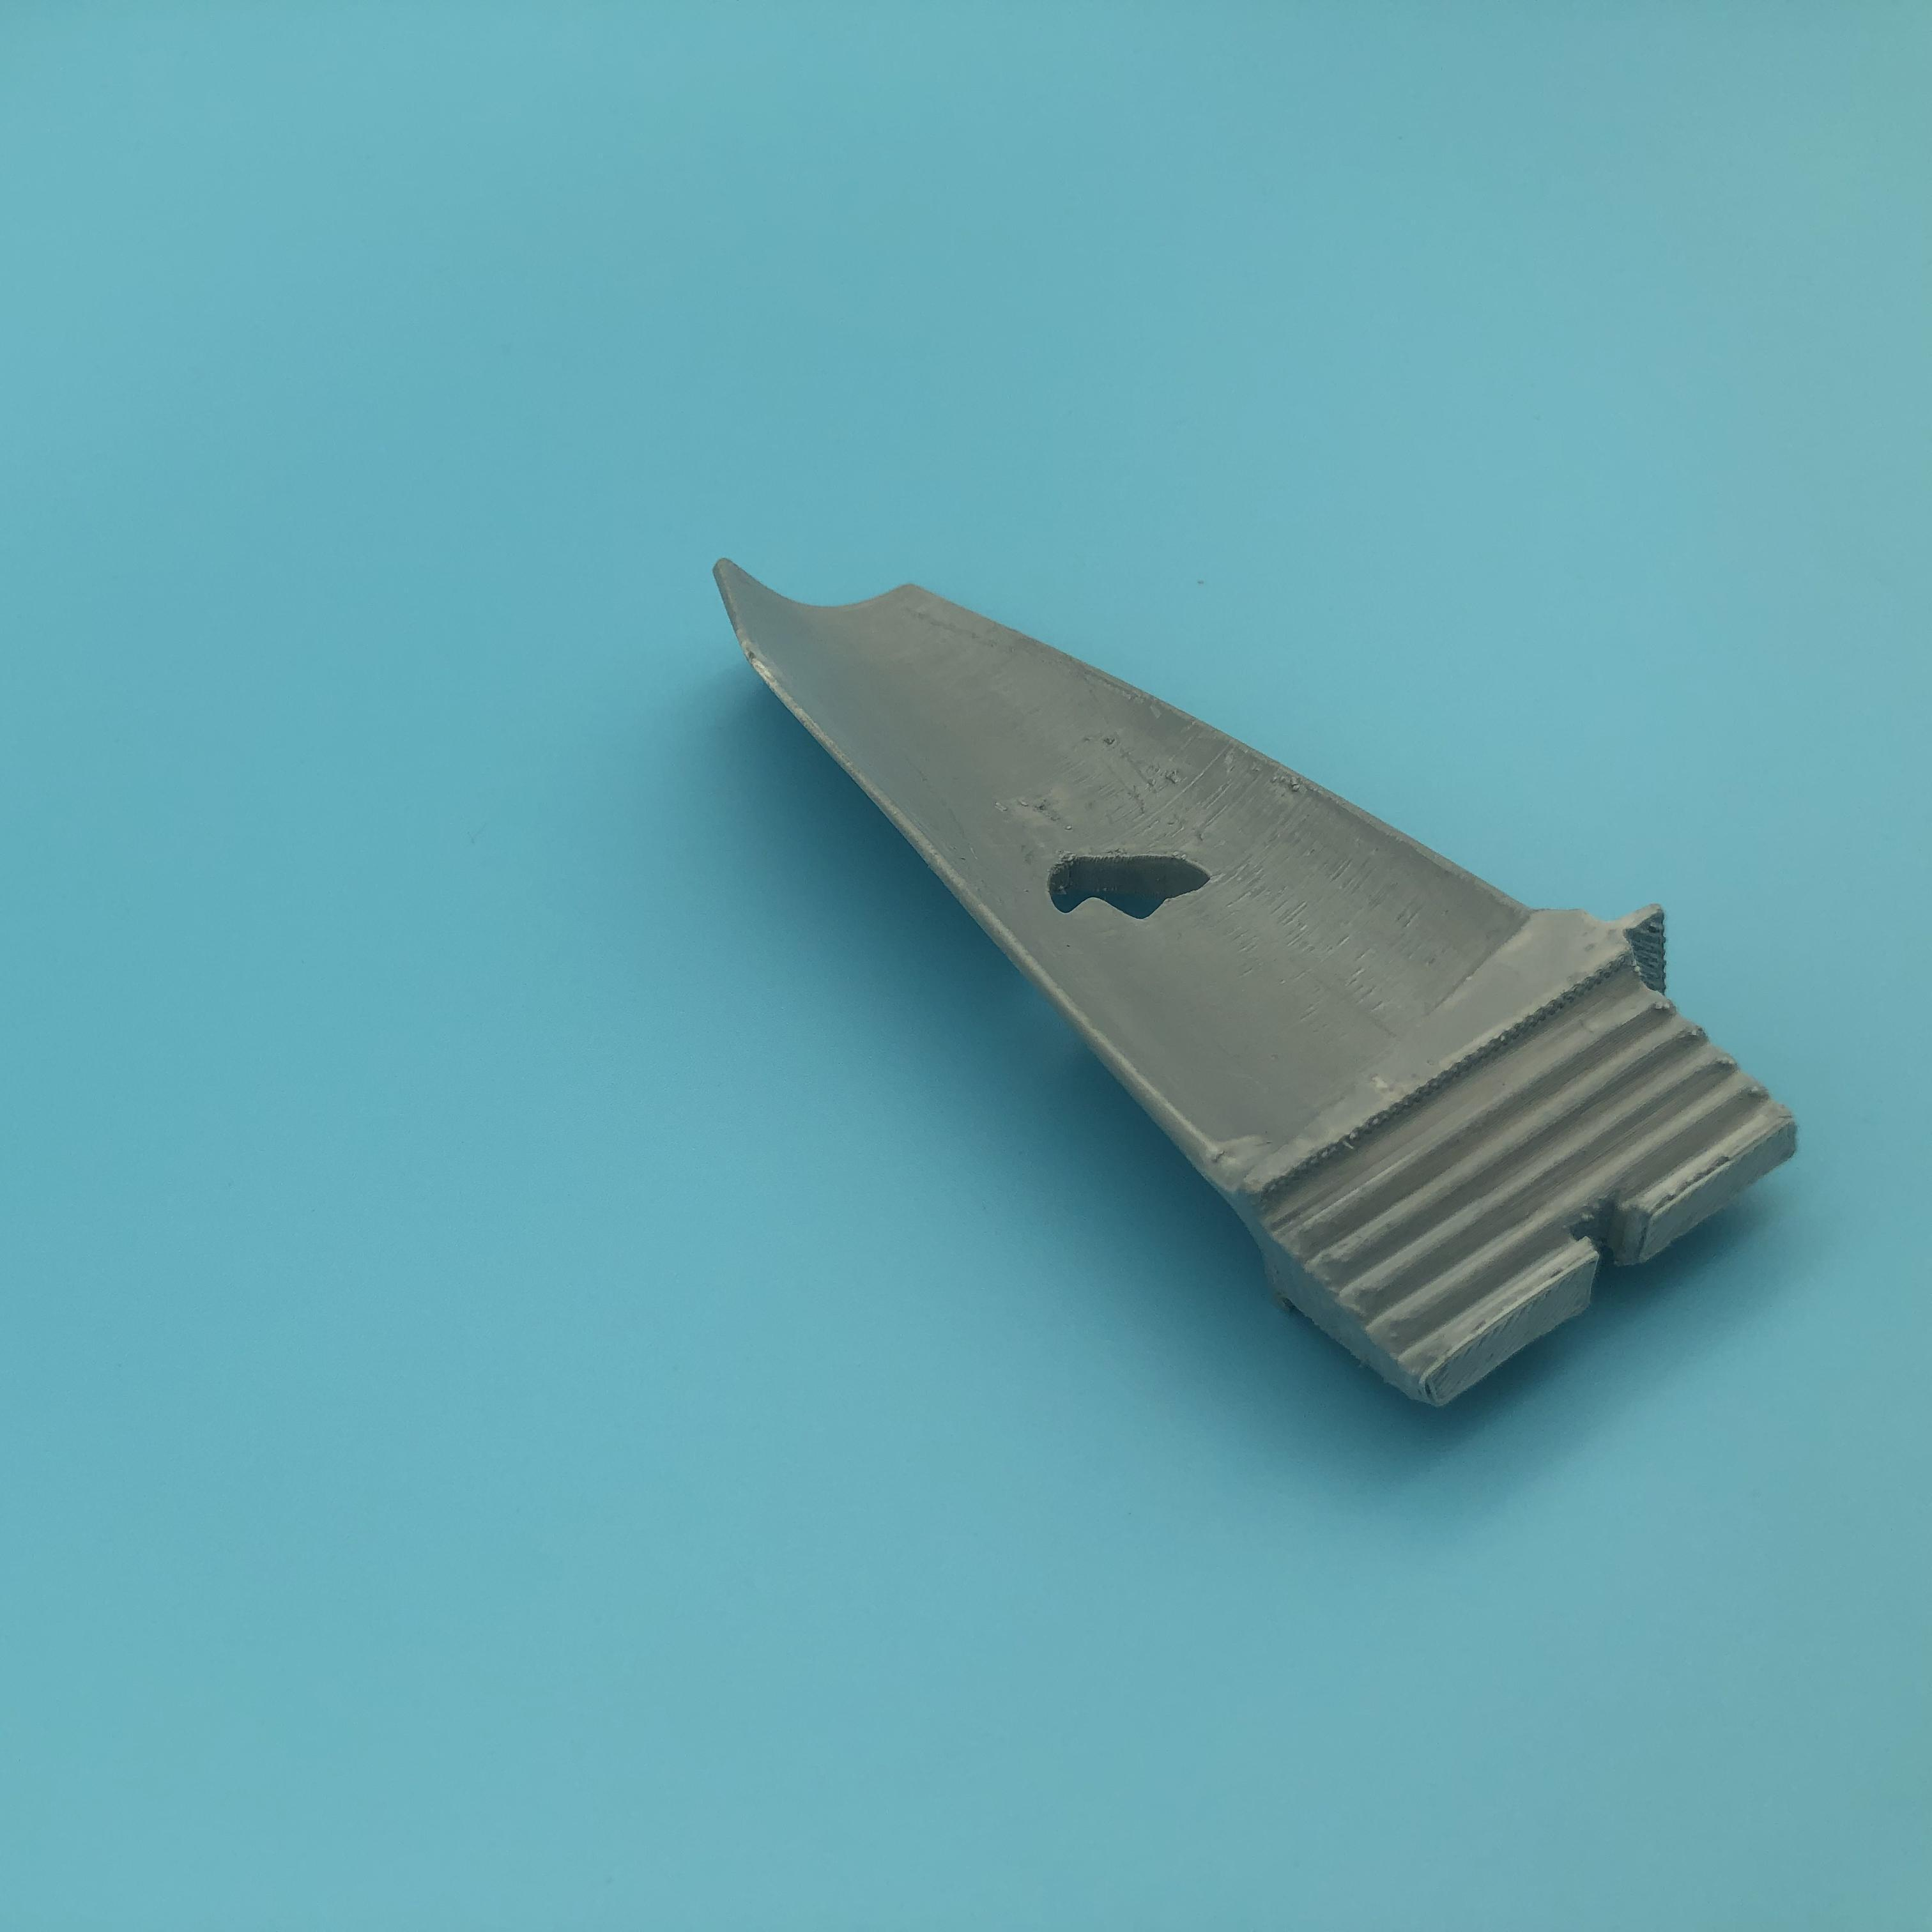breakdown: (1042, 830, 1221, 939)
